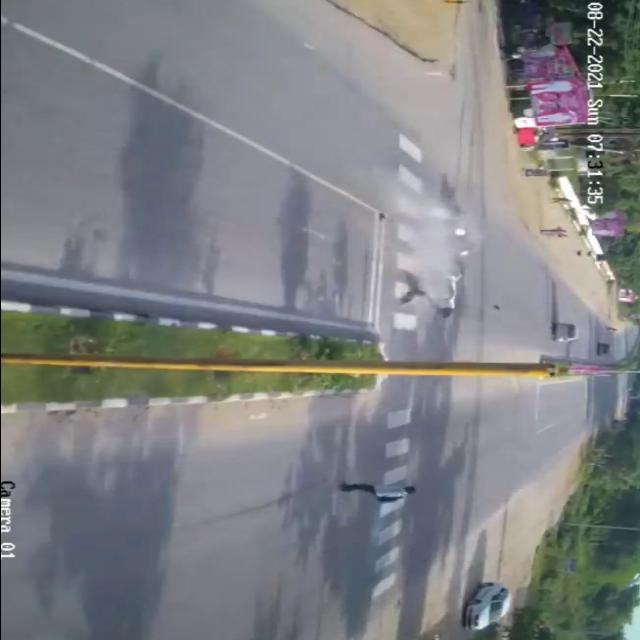accident: (382, 182, 494, 315)
